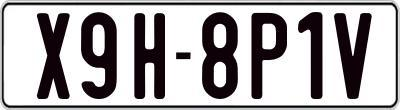1: (295, 12, 319, 105)
8: (200, 10, 240, 101)
9: (79, 11, 118, 99)
H: (134, 10, 166, 96)
P: (249, 11, 286, 100)
V: (331, 12, 373, 101)
X: (37, 12, 75, 98)
